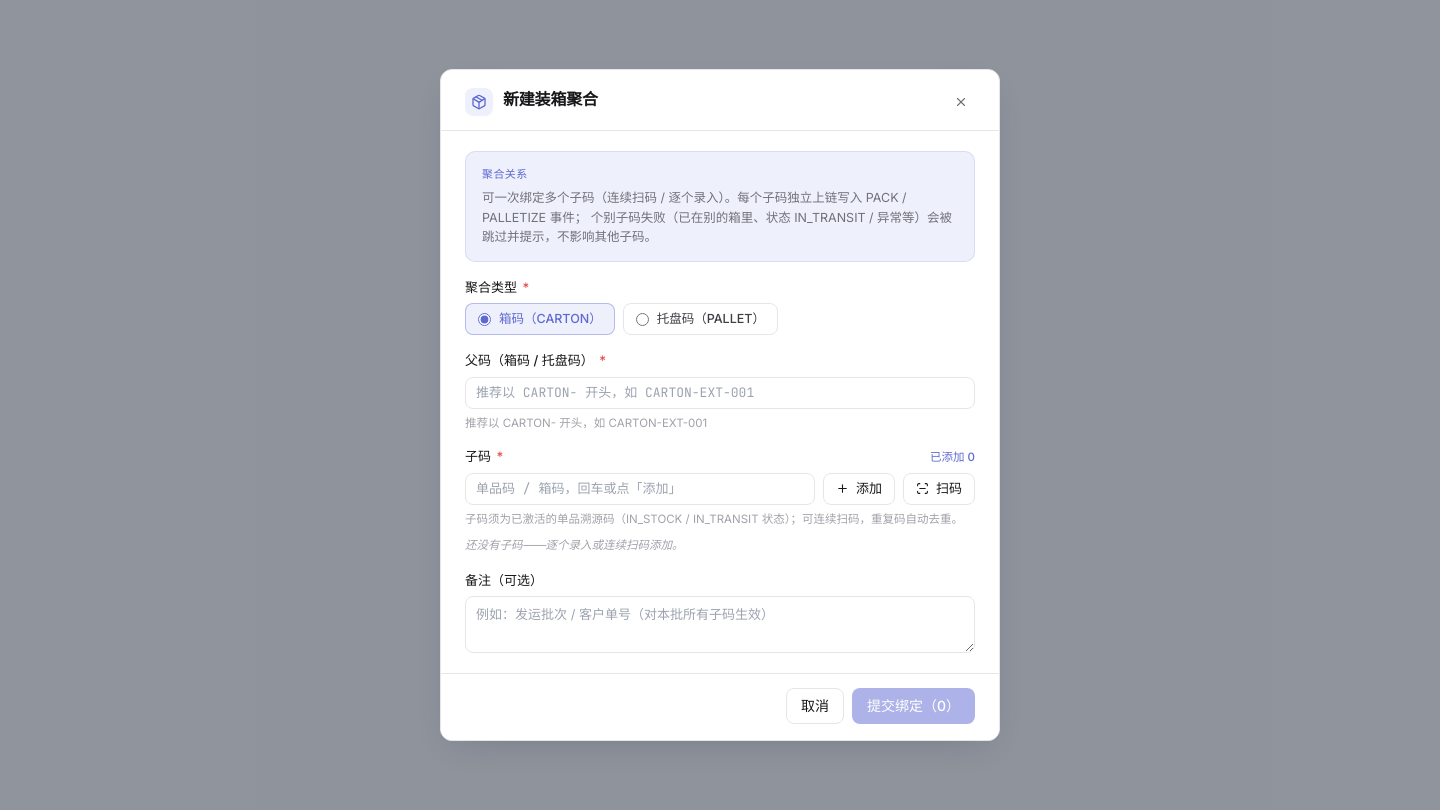
it: AggregationBindDialog contract › on partial failure keeps the dialog open and retains only the failed codes with their reason
The image size is (1440, 810).
Type "CARTON-001" into the field with test id "agg-dialog-parent-input" at (720, 392), box [465, 376, 975, 408]
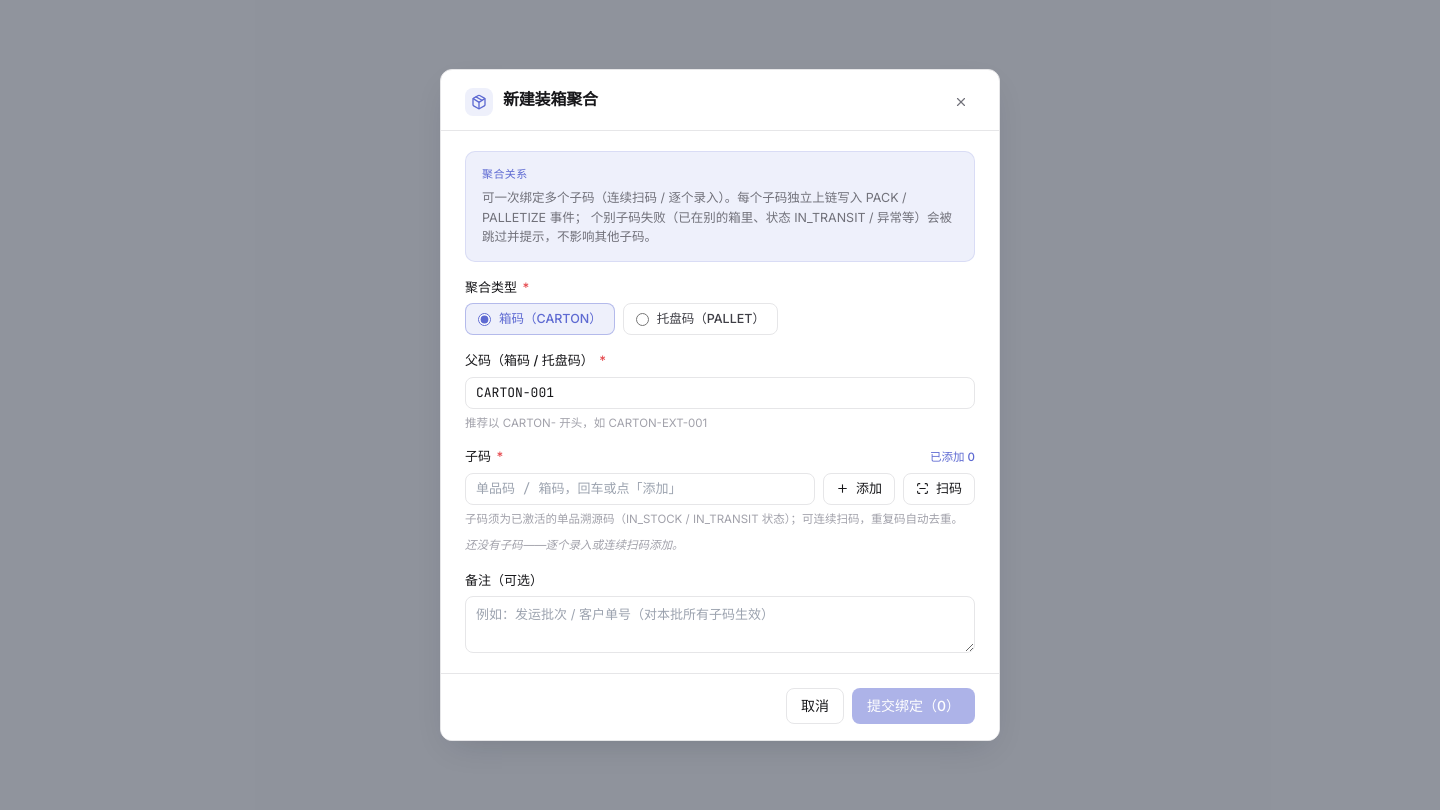
Type "TC-001" into the field with test id "agg-dialog-child-input" at (640, 489), box [465, 473, 815, 505]
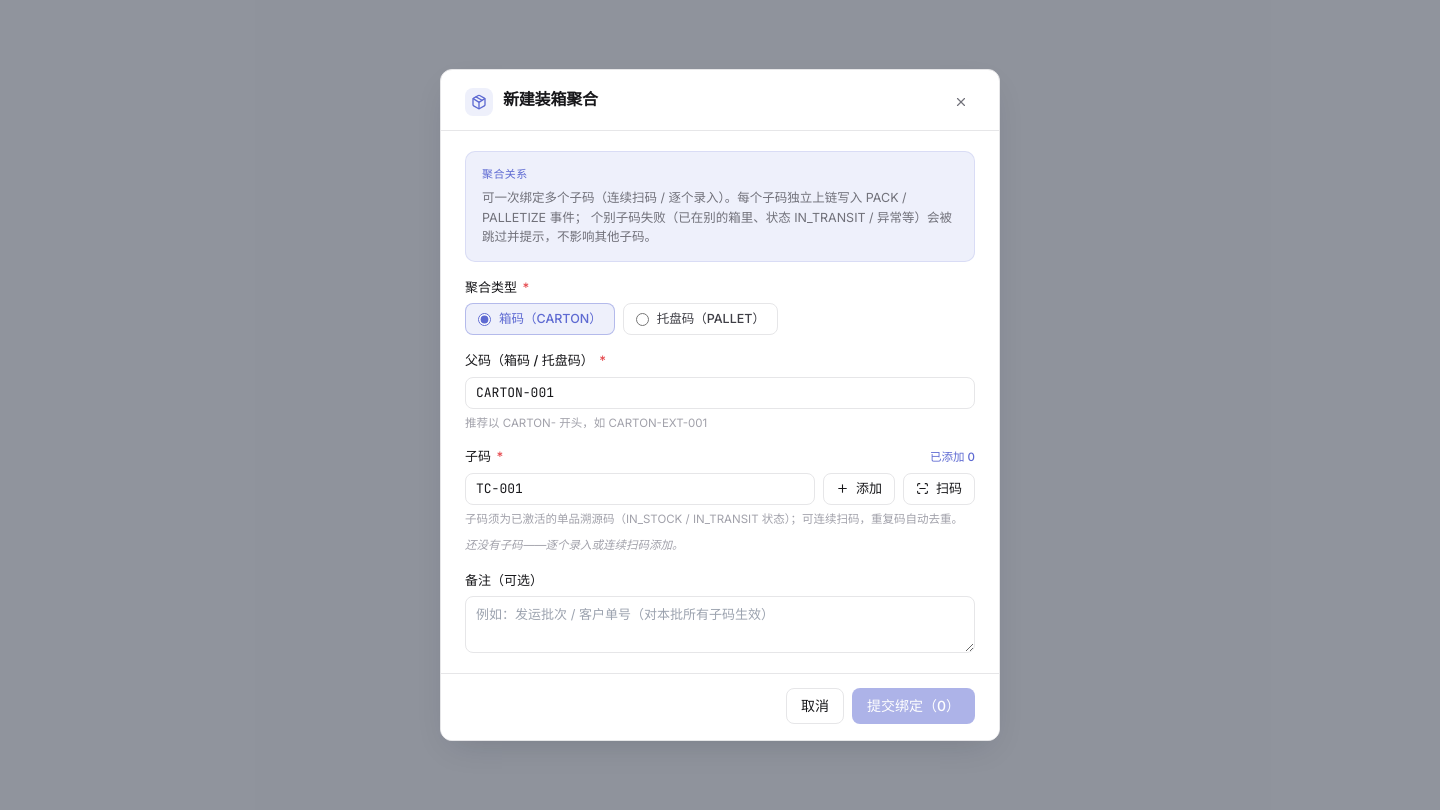
Click the button with test id "agg-dialog-add-child" at (859, 489), box [823, 473, 895, 505]
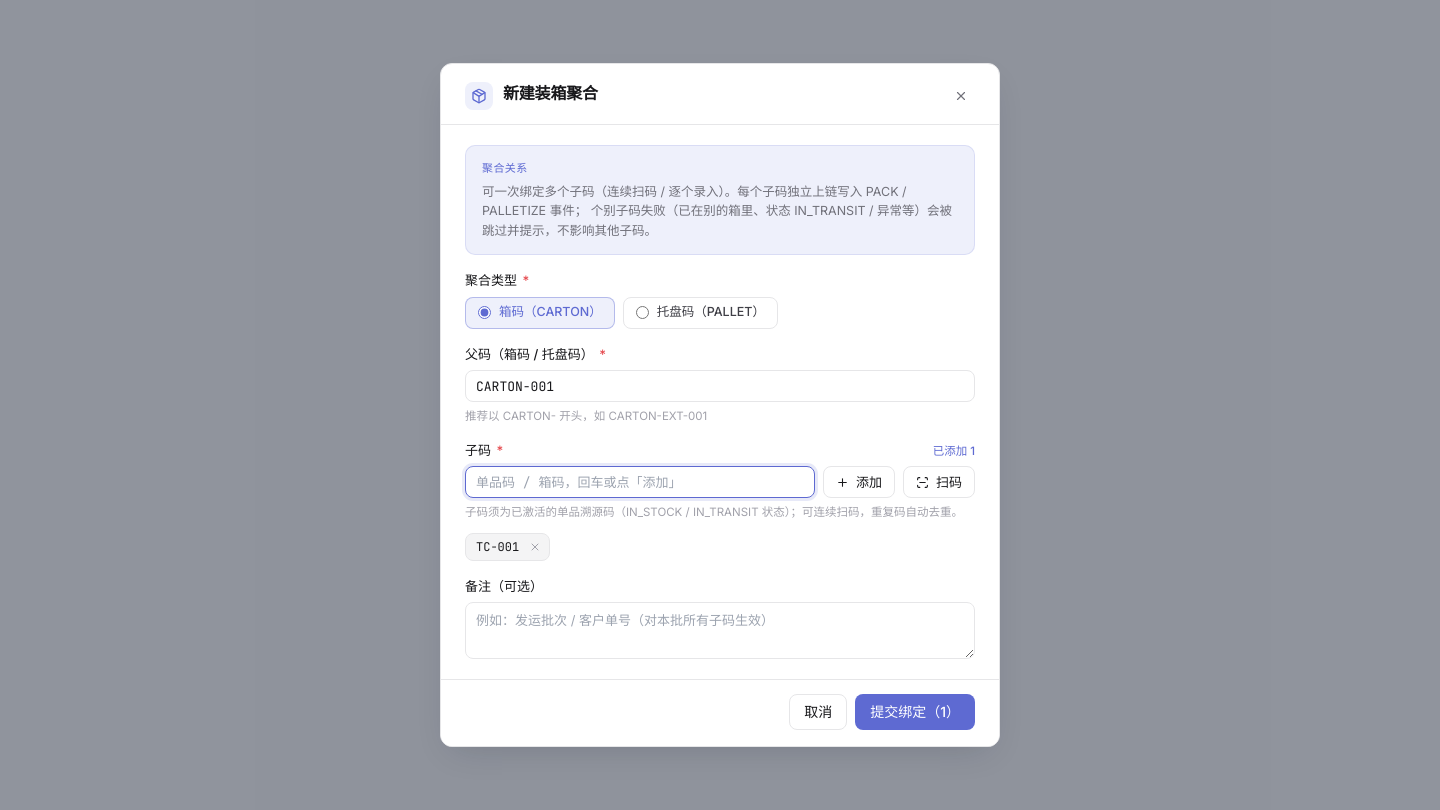
Type "TC-002" into the field with test id "agg-dialog-child-input" at (640, 482), box [465, 466, 815, 498]
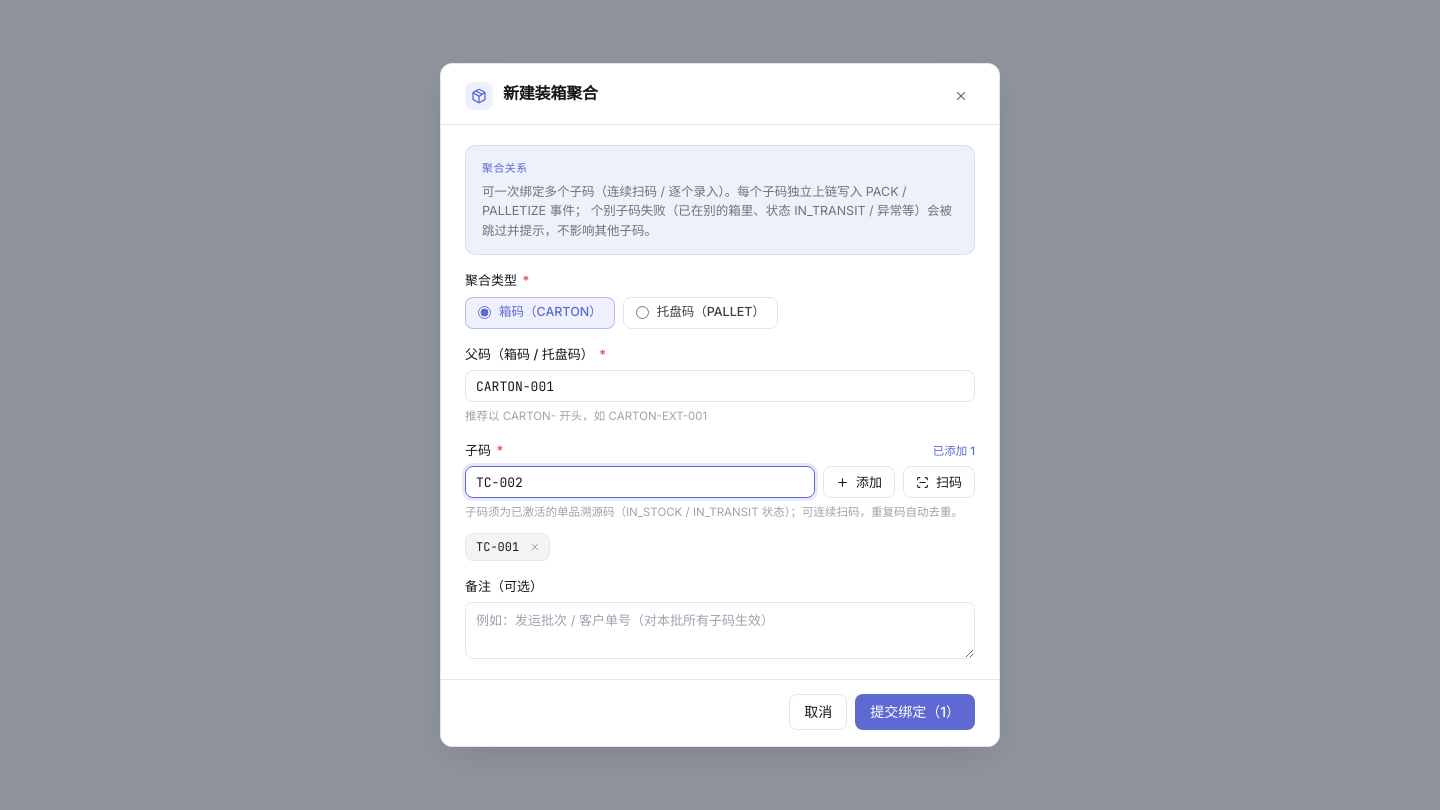
Click the button with test id "agg-dialog-add-child" at (859, 482), box [823, 466, 895, 498]
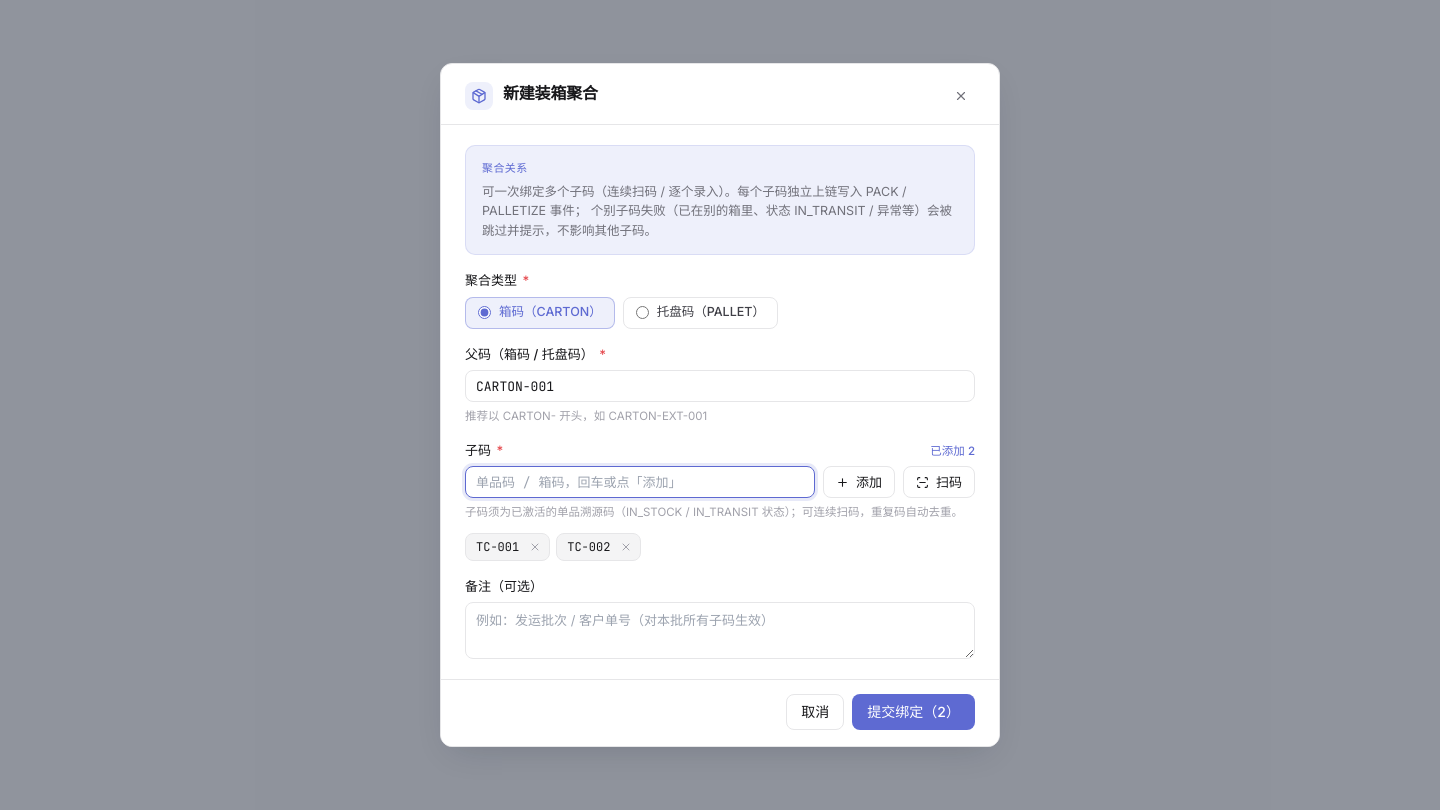
Click the button with test id "agg-dialog-submit" at (914, 712), box [852, 694, 975, 730]
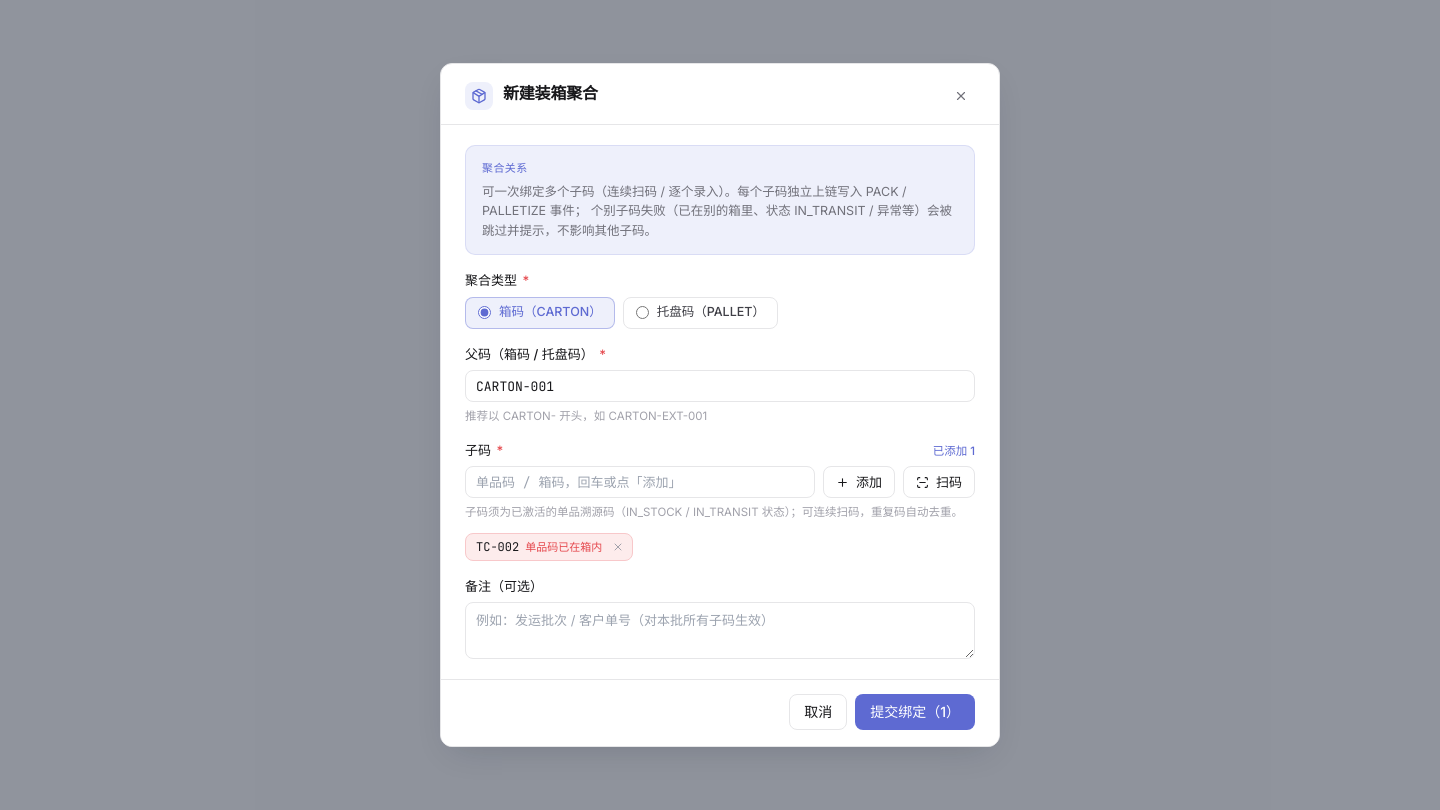
Check: the list item with test id "agg-dialog-child-chip-TC-002" is shown, box [465, 533, 633, 561]
Check: the list item with test id "agg-dialog-child-chip-TC-002" shows "单品码已在箱内", box [525, 540, 602, 554]
